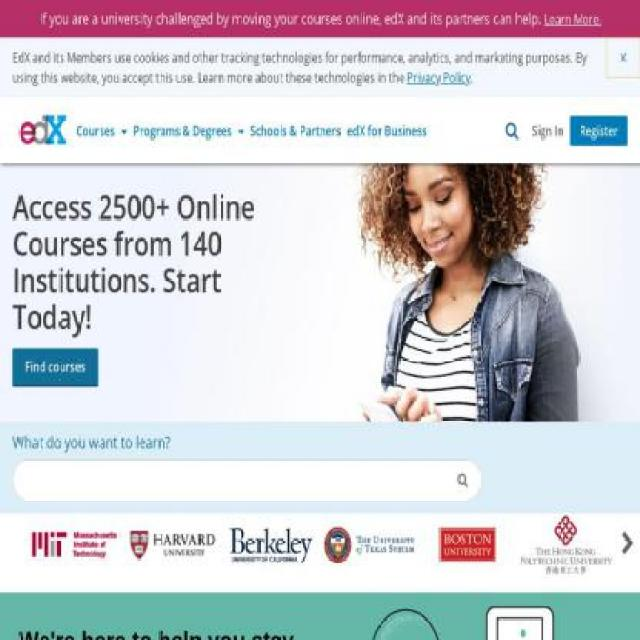button: (130, 98, 235, 164), (247, 98, 344, 164), (26, 513, 122, 576), (223, 513, 319, 576), (321, 513, 417, 576), (419, 513, 515, 576), (518, 513, 614, 576), (125, 513, 220, 576), (344, 98, 430, 164), (13, 348, 98, 386), (73, 98, 118, 164), (569, 115, 628, 146), (19, 115, 67, 147), (617, 513, 640, 578), (445, 460, 481, 500), (525, 115, 570, 146), (118, 98, 130, 164), (235, 98, 247, 164), (615, 530, 639, 558)
field: (12, 459, 482, 501)
